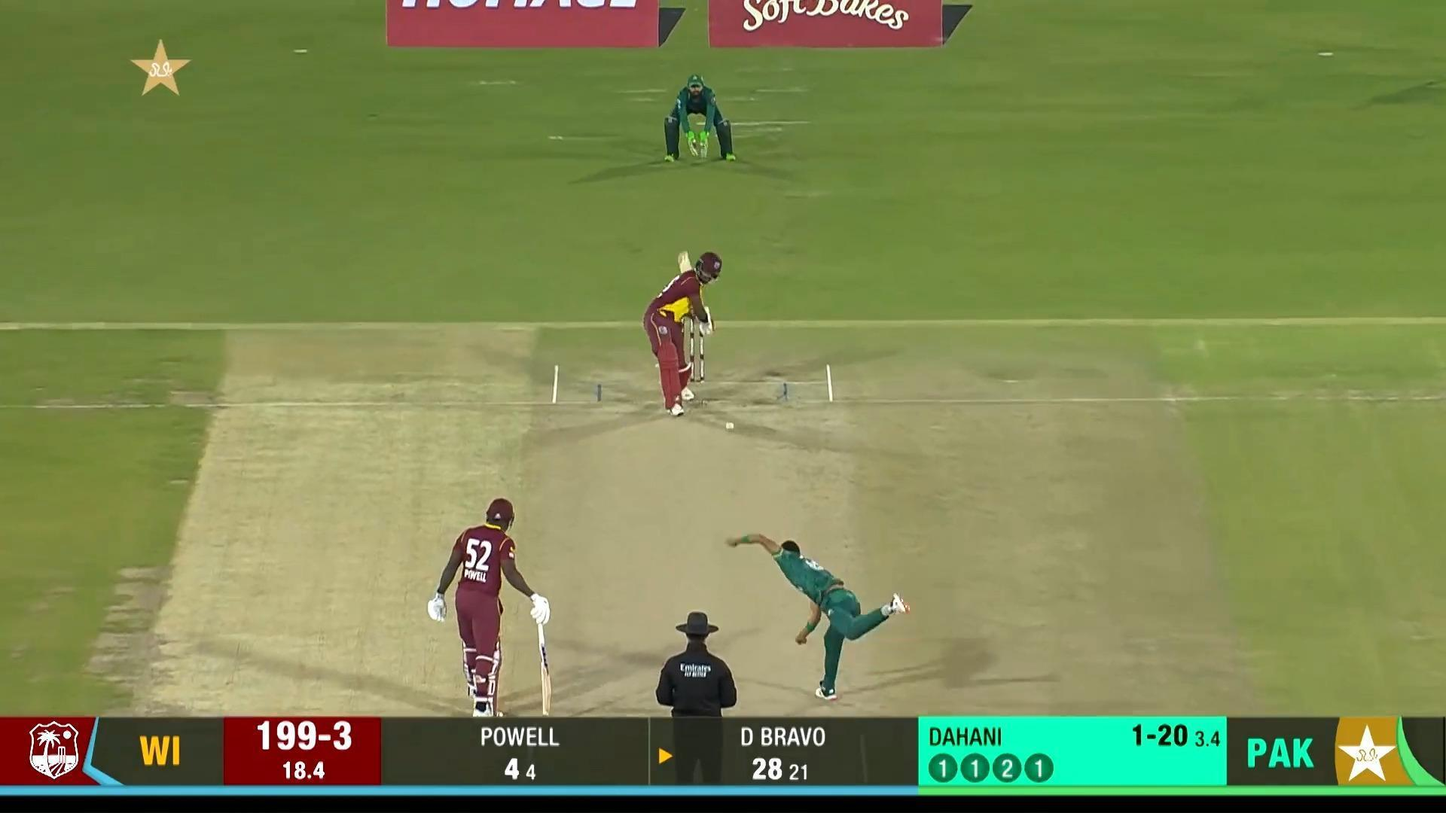BM 1: (645, 248, 723, 418)
BO: (723, 530, 912, 702)
